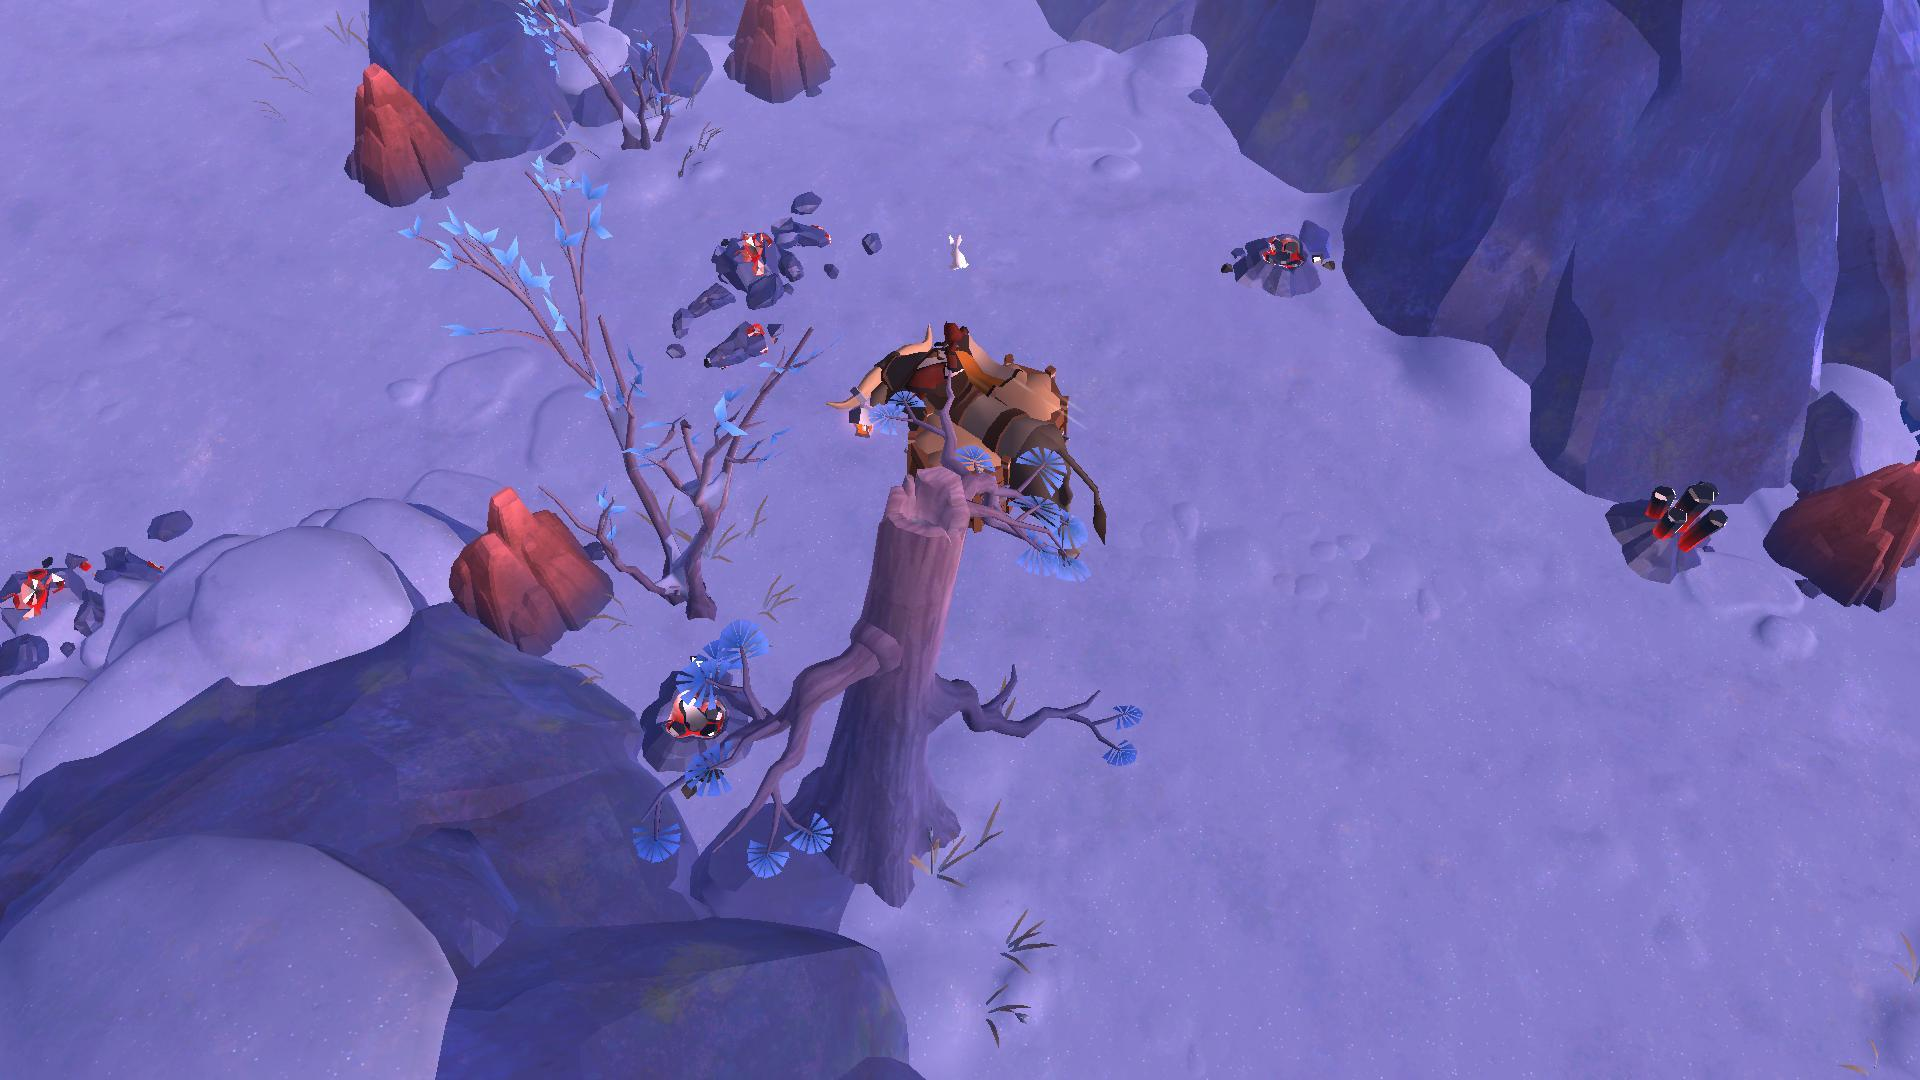ore_t5: (1636, 473, 1735, 549)
rock_t5: (433, 487, 616, 661), (1754, 459, 1920, 616), (339, 61, 462, 207), (717, 0, 837, 104)
